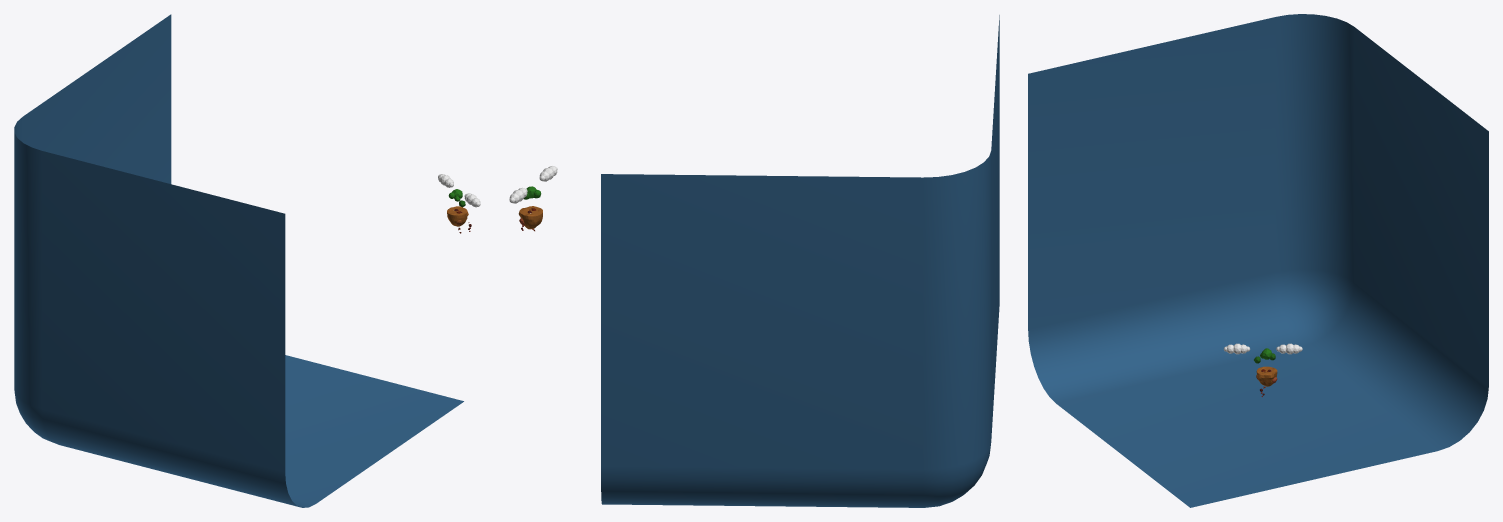
File: isl.glb
3 views of the same model, side by side, from view 1: azimuth 30°, elevation 25°; view 2: azimuth 150°, elevation 25°; view 3: azimuth 270°, elevation 25° (orthographic). The views are drawn at different scales.
Visible parts, largest first — view 1: Cube; view 2: Cube; view 3: Cube.
Boxes of the visible parts, bbox=[...] form: Cube: bbox=[14, 14, 463, 507]; Cube: bbox=[601, 15, 999, 507]; Cube: bbox=[1028, 14, 1488, 507].
Bounding box in the file's own units: 143 × 99.15 × 134.
